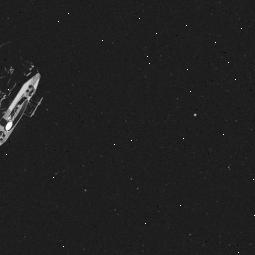lisa_pathfinder: (0, 35, 54, 153)
